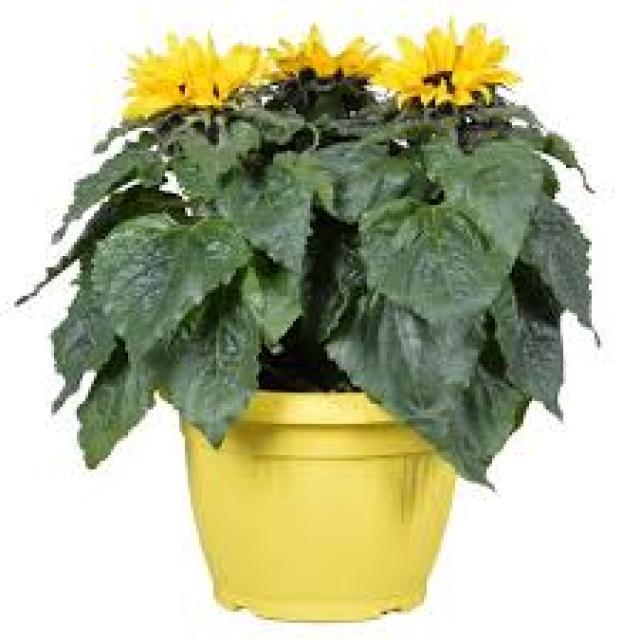sunflower: (376, 20, 536, 118), (104, 27, 269, 119), (256, 22, 395, 100)
